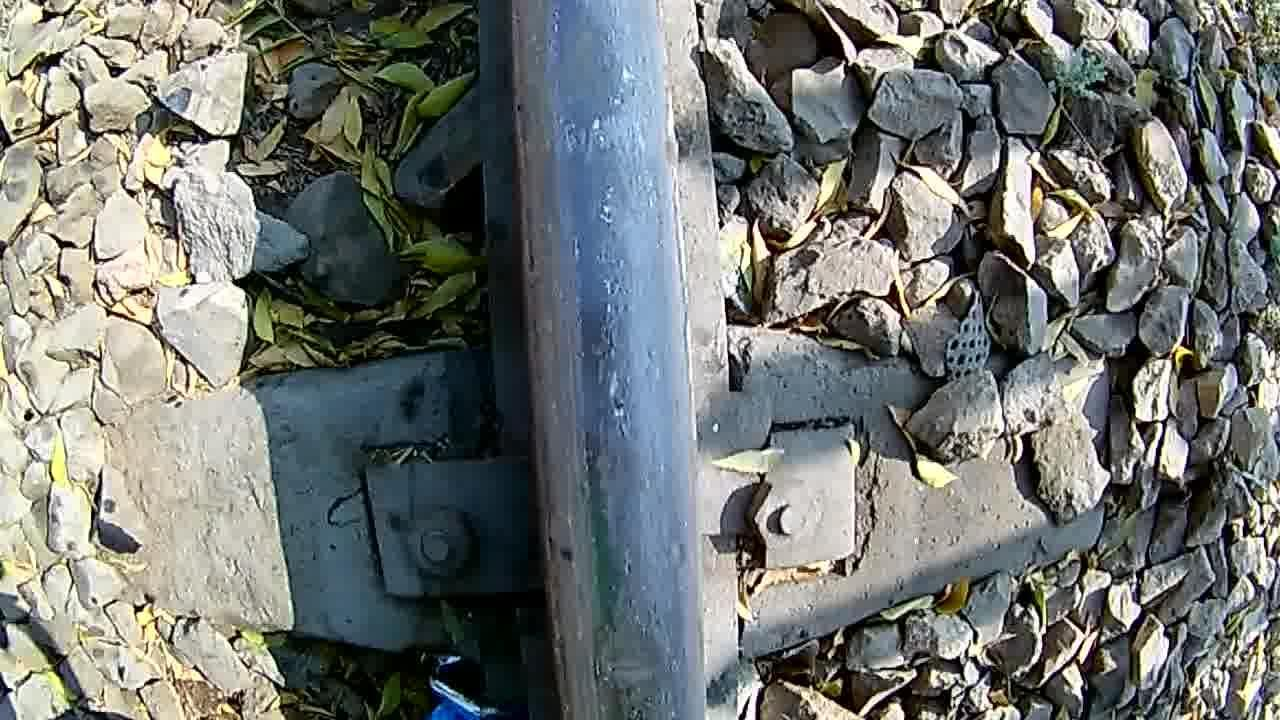crack: (512, 4, 679, 720)
